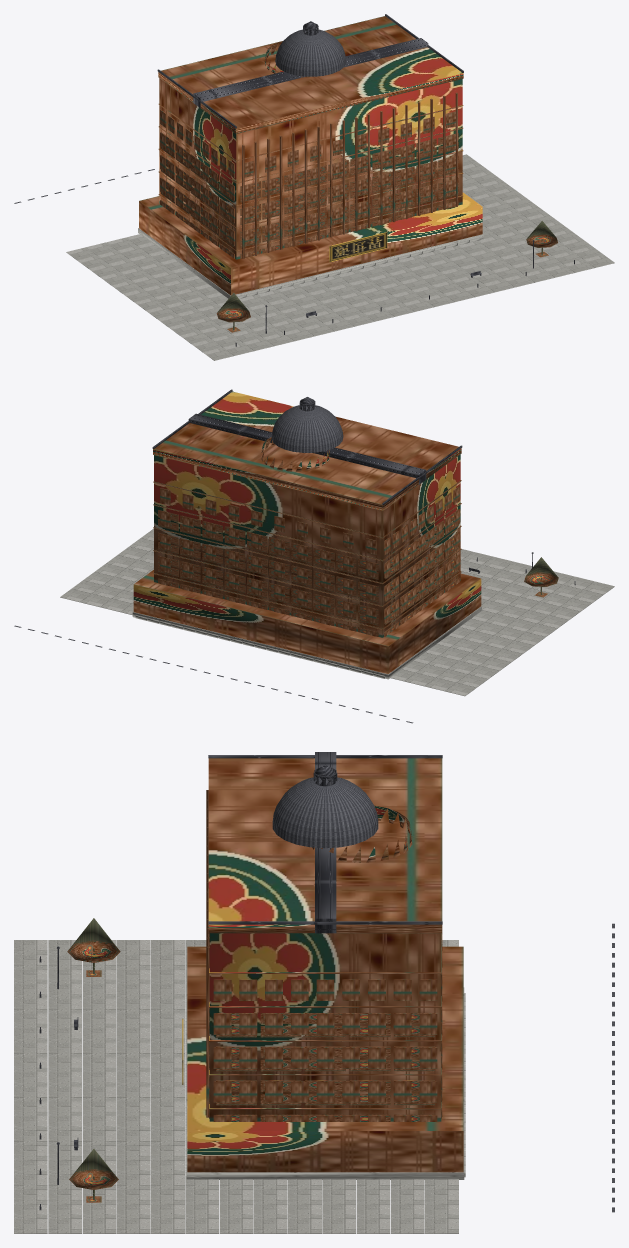
3 renders of one model, top to bottom at view 1: azimuth 30°, elevation 25°; view 2: azimuth 150°, elevation 25°; view 3: azimuth 270°, elevation 25°, orthographic. The views are drawn at different scales.
Parts seen in each view (by area): view 1: 11140_02_04530_016_02__mass_body_facade, 11140_02_04530_016_01__plinth_ground_base, 11140_02_04530_016_05__window_sash_glass, 11140_02_04530_016_03__roof_deck_structure, 11140_02_04530_016_03__roof_metal_ornament, 11140_02_04530_016_06__landscape_greenery, 11140_02_04530_016_04__sign_board; view 2: 11140_02_04530_016_02__mass_body_facade, 11140_02_04530_016_01__plinth_ground_base, 11140_02_04530_016_03__roof_deck_structure, 11140_02_04530_016_03__roof_metal_ornament, 11140_02_04530_016_06__landscape_greenery; view 3: 11140_02_04530_016_02__mass_body_facade, 11140_02_04530_016_01__plinth_ground_base, 11140_02_04530_016_03__roof_deck_structure, 11140_02_04530_016_03__roof_metal_ornament, 11140_02_04530_016_06__landscape_greenery.
Part boxes in pixels (left/top/right/bottom): 11140_02_04530_016_02__mass_body_facade: left=139, top=16, right=482, bottom=295; 11140_02_04530_016_01__plinth_ground_base: left=66, top=154, right=614, bottom=360; 11140_02_04530_016_05__window_sash_glass: left=244, top=111, right=455, bottom=257; 11140_02_04530_016_03__roof_deck_structure: left=14, top=29, right=346, bottom=203; 11140_02_04530_016_03__roof_metal_ornament: left=157, top=14, right=463, bottom=128; 11140_02_04530_016_06__landscape_greenery: left=216, top=221, right=557, bottom=332; 11140_02_04530_016_04__sign_board: left=330, top=233, right=386, bottom=261; 11140_02_04530_016_02__mass_body_facade: left=133, top=391, right=481, bottom=673; 11140_02_04530_016_01__plinth_ground_base: left=60, top=528, right=614, bottom=696; 11140_02_04530_016_03__roof_deck_structure: left=14, top=405, right=413, bottom=723; 11140_02_04530_016_03__roof_metal_ornament: left=152, top=389, right=462, bottom=505; 11140_02_04530_016_06__landscape_greenery: left=524, top=557, right=558, bottom=597; 11140_02_04530_016_02__mass_body_facade: left=187, top=758, right=463, bottom=1172; 11140_02_04530_016_01__plinth_ground_base: left=14, top=940, right=465, bottom=1233; 11140_02_04530_016_03__roof_deck_structure: left=272, top=777, right=614, bottom=1212; 11140_02_04530_016_03__roof_metal_ornament: left=208, top=752, right=442, bottom=933; 11140_02_04530_016_06__landscape_greenery: left=67, top=918, right=120, bottom=1202.
Bounding box in the file's own units: 77.97 × 39.97 × 67.47.
7 materials, 7 textured.
